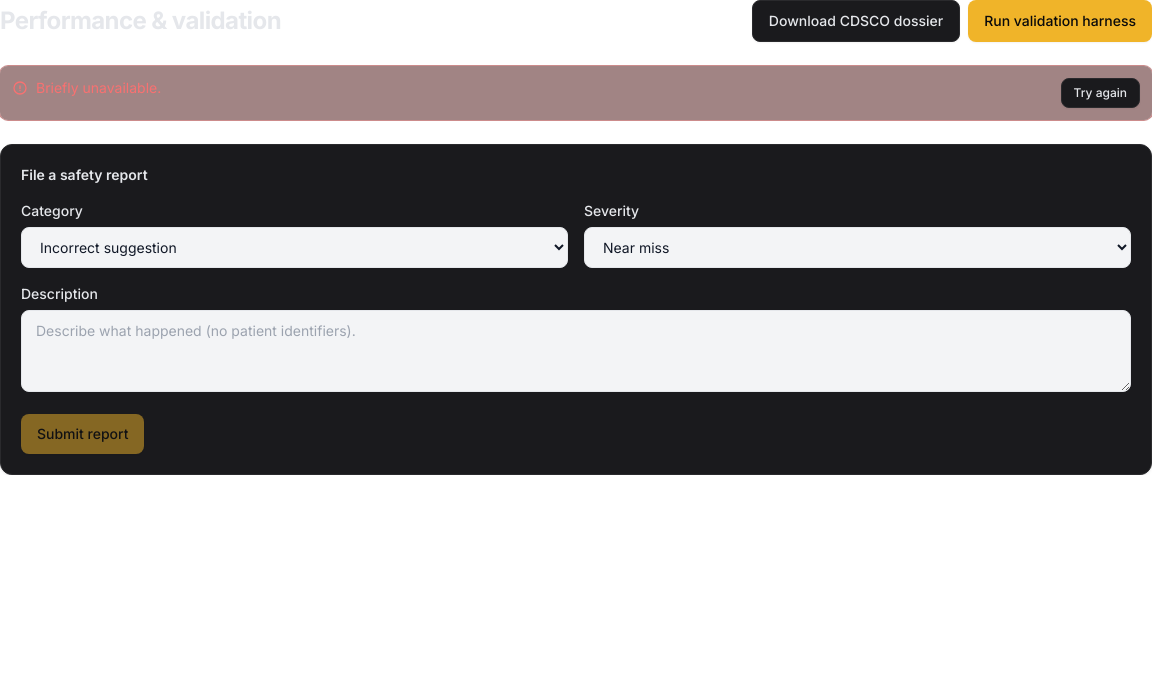
Test case: MetricsPage recovery › offers a retry when the metrics could not be read
Expected: the message "Briefly unavailable. Try again" is shown, [0, 66, 1151, 120]
Click the button "Try again" at (1100, 93), box [1061, 78, 1140, 108]
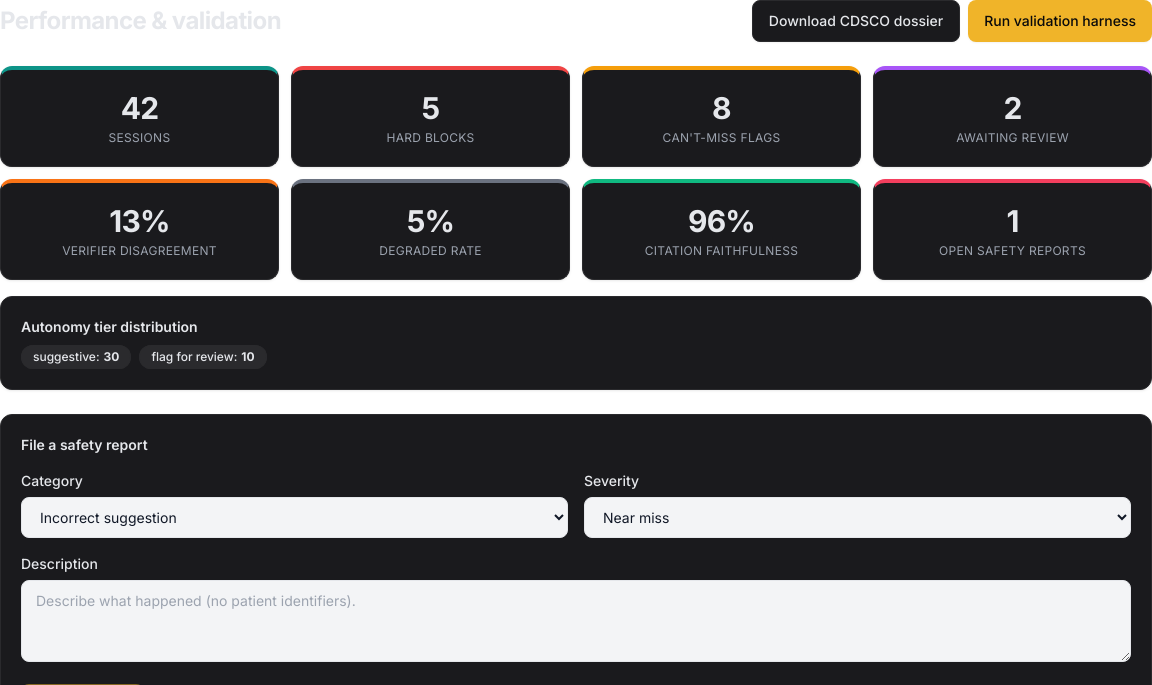
Expected: the text "42" is shown, [121, 90, 158, 126]
Expected: the message "Briefly unavailable. Try again" is gone
